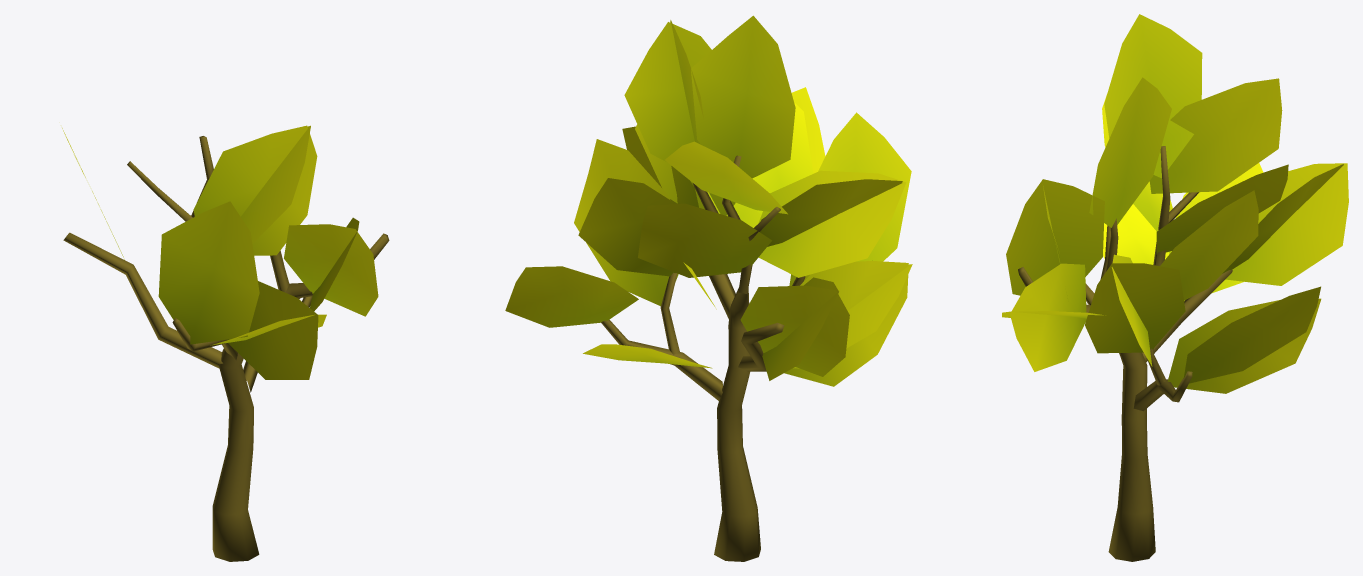
Rendered from Tree01.glb.
3 renders of one model, left to right at view 1: azimuth 30°, elevation 25°; view 2: azimuth 150°, elevation 25°; view 3: azimuth 270°, elevation 25°, orthographic. The views are drawn at different scales.
Visible parts, largest first — view 1: Tree01; view 2: Tree01; view 3: Tree01.
Part boxes in pixels (bbox=[...]): Tree01: bbox=[62, 125, 389, 561]; Tree01: bbox=[505, 15, 912, 561]; Tree01: bbox=[1002, 14, 1348, 561].
Size of the model in its own units: 7.68 by 11.65 by 8.16.
Materials: 2 (1 with a texture image).
